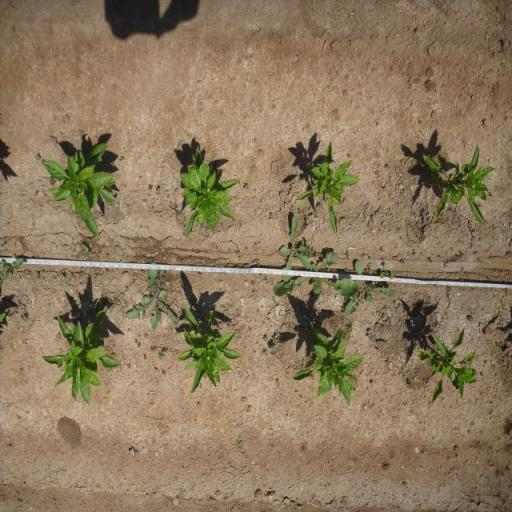plant: (40, 308, 122, 406), (42, 145, 119, 240), (418, 143, 496, 229), (290, 322, 364, 407), (178, 143, 240, 241), (179, 302, 243, 396), (298, 140, 358, 238), (417, 326, 479, 408)
weed: (124, 260, 180, 334), (271, 252, 361, 298), (343, 259, 396, 323), (276, 216, 308, 280), (0, 257, 26, 281), (378, 262, 396, 280), (310, 246, 324, 260), (364, 261, 374, 276), (367, 328, 376, 343), (454, 249, 466, 260), (81, 244, 90, 258), (148, 343, 159, 354), (267, 344, 278, 355), (158, 349, 168, 361), (270, 335, 280, 344), (456, 266, 465, 276), (108, 298, 118, 306), (86, 237, 93, 248), (59, 274, 66, 284), (161, 368, 168, 378), (49, 178, 57, 186), (242, 183, 250, 191), (442, 259, 449, 268), (446, 286, 452, 296), (35, 153, 42, 161), (156, 186, 161, 196), (118, 156, 126, 162), (275, 380, 281, 388), (262, 350, 268, 358), (126, 362, 132, 370), (412, 248, 416, 259), (21, 316, 28, 322), (399, 258, 406, 264), (382, 186, 388, 193), (235, 247, 240, 255), (379, 246, 384, 254), (386, 163, 391, 171), (148, 184, 154, 190), (262, 336, 268, 342), (226, 262, 232, 268), (427, 256, 433, 262), (90, 266, 96, 271), (144, 333, 148, 340), (105, 268, 108, 275)
